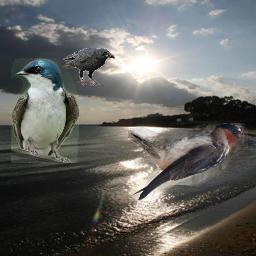Crow: (60, 48, 115, 86)
Swallow: (128, 123, 248, 201), (11, 58, 79, 163)
